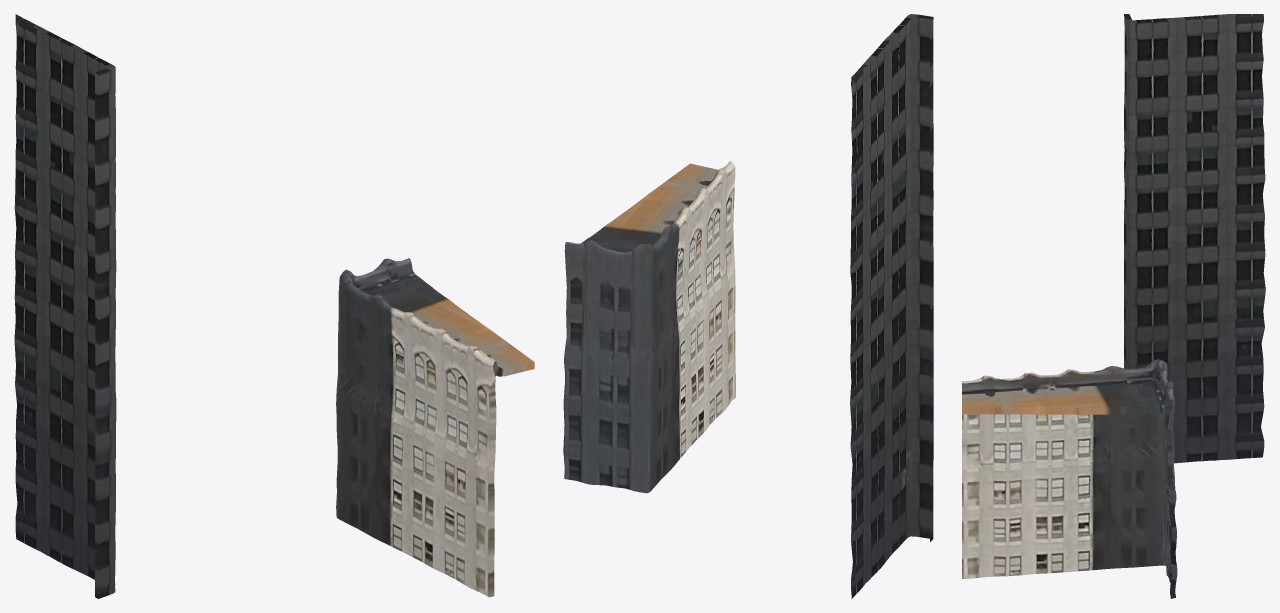
File: z20-167763-405237-h1-yup-uvflip-v3-world.glb
3 views of the same model, side by side, from view 1: azimuth 30°, elevation 25°; view 2: azimuth 150°, elevation 25°; view 3: azimuth 270°, elevation 25° (orthographic). The views are drawn at different scales.
Size of the model in its own units: 30.16 by 44.56 by 27.6.
1 material, 1 textured.
